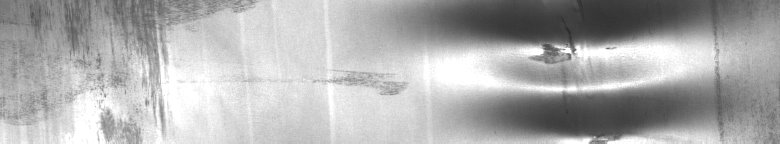ke: (513, 32, 644, 136)
